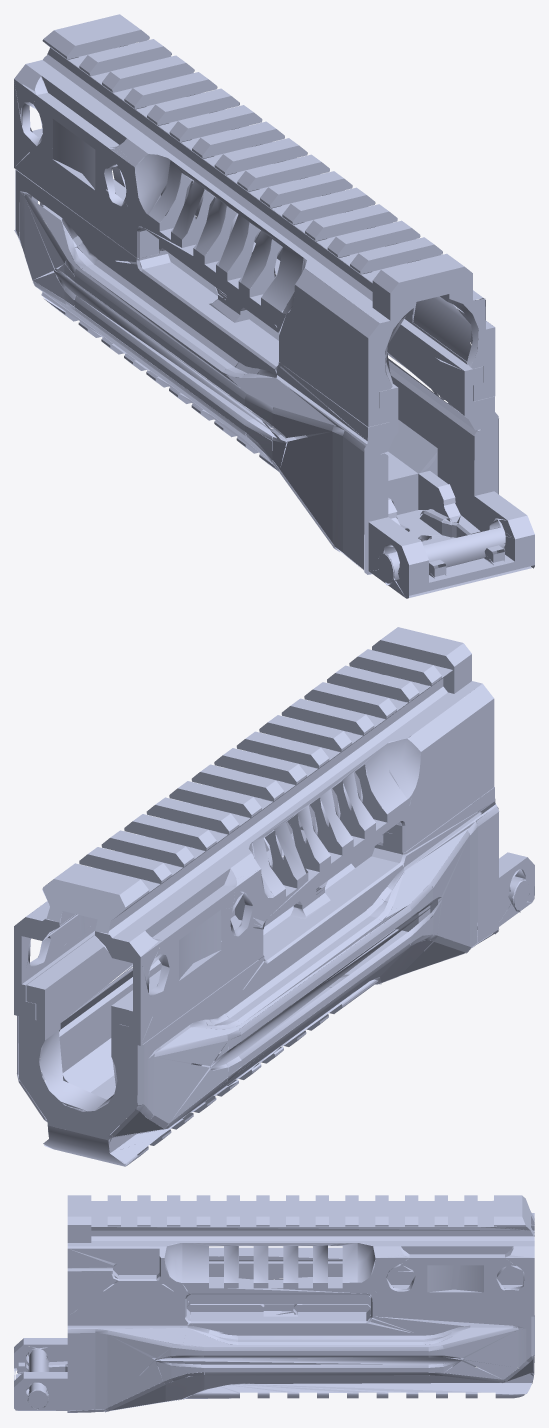
Rendered from handguard_railed_fulllength.glb.
3 renders of one model, top to bottom at view 1: azimuth 30°, elevation 25°; view 2: azimuth 150°, elevation 25°; view 3: azimuth 270°, elevation 25°, orthographic. The views are drawn at different scales.
Visible parts, largest first — view 1: AK12_Handguard; view 2: AK12_Handguard; view 3: AK12_Handguard.
Boxes of the visible parts, bbox=[...] form: AK12_Handguard: bbox=[14, 14, 534, 598]; AK12_Handguard: bbox=[14, 627, 534, 1166]; AK12_Handguard: bbox=[14, 1195, 534, 1412].
Bounding box in the file's own units: 0.0429 × 0.0698 × 0.1752.
